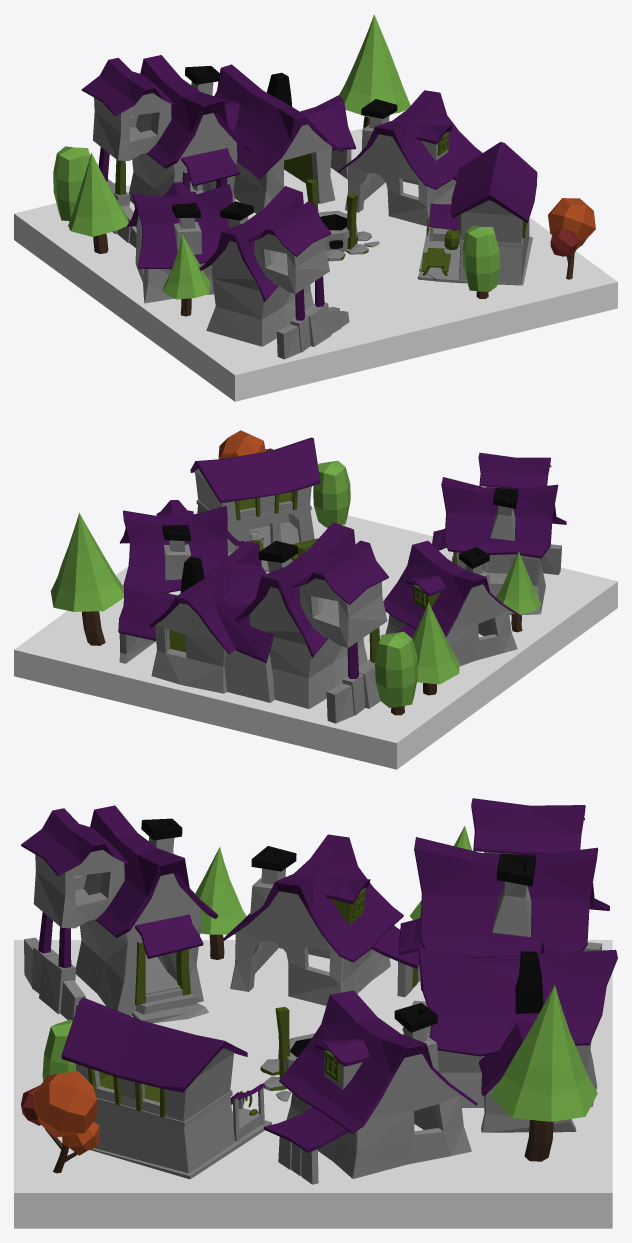
The model's file is Pueblo1.FBX.
The picture shows the model from 3 angles, top to bottom: view 1: azimuth 30°, elevation 25°; view 2: azimuth 150°, elevation 25°; view 3: azimuth 270°, elevation 25°; orthographic projection. The views are drawn at different scales.
Visible parts, largest first — view 1: Box031, _geo_house1_UV001, _geo_house1_UV.006, _geo_house3_UV001, _geo_house2_UV.008, _geo_tavern_UV.002, _geo_house2_UV.007, group267_pCylinder347.022, group267_pCylinder347.021, pCylinder356.027, Cylinder.042, pCylinder366.016 (+2 smaller); view 2: Box031, _geo_house1_UV001, _geo_house3_UV001, _geo_house1_UV.006, _geo_tavern_UV.002, _geo_house2_UV.007, _geo_house2_UV.008, group267_pCylinder347.022, pCylinder366.015, group267_pCylinder347.021, pCylinder366.016, group267_pCylinder347.020 (+1 smaller); view 3: Box031, _geo_house1_UV.006, _geo_house2_UV.008, _geo_house1_UV001, _geo_tavern_UV.002, _geo_house3_UV001, _geo_house2_UV.007, group267_pCylinder347.022, pCylinder356.027, group267_pCylinder347.020, Cylinder.042, pCylinder366.016.
Boxes of the visible parts, x1=… form: Box031: x1=14, y1=128, x2=617, y2=401; _geo_house1_UV001: x1=81, y1=55, x2=251, y2=247; _geo_house1_UV.006: x1=199, y1=186, x2=349, y2=359; _geo_house3_UV001: x1=193, y1=64, x2=355, y2=213; _geo_house2_UV.008: x1=338, y1=90, x2=482, y2=226; _geo_tavern_UV.002: x1=417, y1=142, x2=537, y2=285; _geo_house2_UV.007: x1=127, y1=182, x2=232, y2=303; group267_pCylinder347.022: x1=339, y1=14, x2=410, y2=128; group267_pCylinder347.021: x1=68, y1=152, x2=128, y2=253; pCylinder356.027: x1=548, y1=198, x2=595, y2=279; Cylinder.042: x1=306, y1=179, x2=379, y2=261; pCylinder366.016: x1=462, y1=226, x2=500, y2=298; Box031: x1=14, y1=507, x2=617, y2=769; _geo_house1_UV001: x1=235, y1=522, x2=388, y2=723; _geo_house3_UV001: x1=118, y1=541, x2=274, y2=702; _geo_house1_UV.006: x1=432, y1=452, x2=566, y2=615; _geo_tavern_UV.002: x1=190, y1=437, x2=320, y2=572; _geo_house2_UV.007: x1=383, y1=540, x2=521, y2=666; _geo_house2_UV.008: x1=119, y1=500, x2=227, y2=593; group267_pCylinder347.022: x1=50, y1=513, x2=123, y2=645; pCylinder366.015: x1=375, y1=631, x2=417, y2=715; group267_pCylinder347.021: x1=412, y1=602, x2=459, y2=695; pCylinder366.016: x1=313, y1=460, x2=350, y2=528; group267_pCylinder347.020: x1=496, y1=551, x2=541, y2=632; Box031: x1=14, y1=940, x2=612, y2=1228; _geo_house1_UV.006: x1=21, y1=805, x2=218, y2=1023; _geo_house2_UV.008: x1=263, y1=990, x2=477, y2=1184; _geo_house1_UV001: x1=398, y1=798, x2=609, y2=1037; _geo_tavern_UV.002: x1=61, y1=997, x2=271, y2=1179; _geo_house3_UV001: x1=418, y1=940, x2=617, y2=1132; _geo_house2_UV.007: x1=223, y1=834, x2=420, y2=1005; group267_pCylinder347.022: x1=490, y1=985, x2=597, y2=1161; pCylinder356.027: x1=21, y1=1071, x2=99, y2=1173; group267_pCylinder347.020: x1=195, y1=847, x2=246, y2=959; Cylinder.042: x1=260, y1=1007, x2=314, y2=1101; pCylinder366.016: x1=42, y1=1019, x2=76, y2=1080.
Bounding box in the file's own units: 101 × 42.37 × 101.
